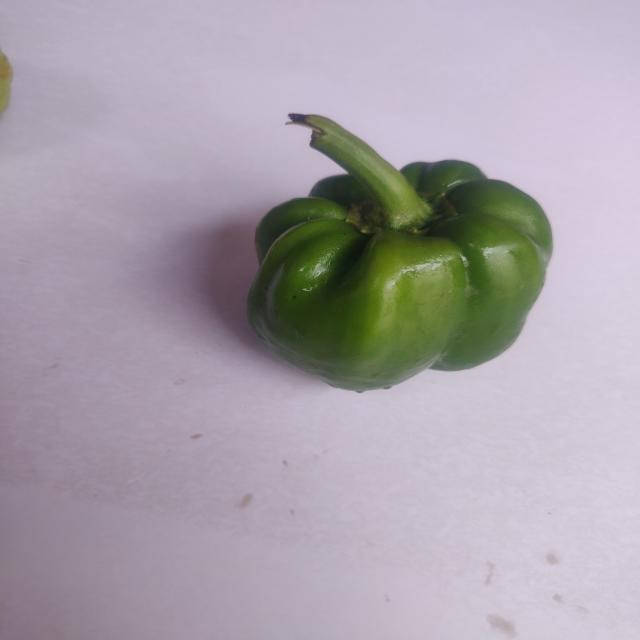Capsicum: (232, 95, 560, 400)
